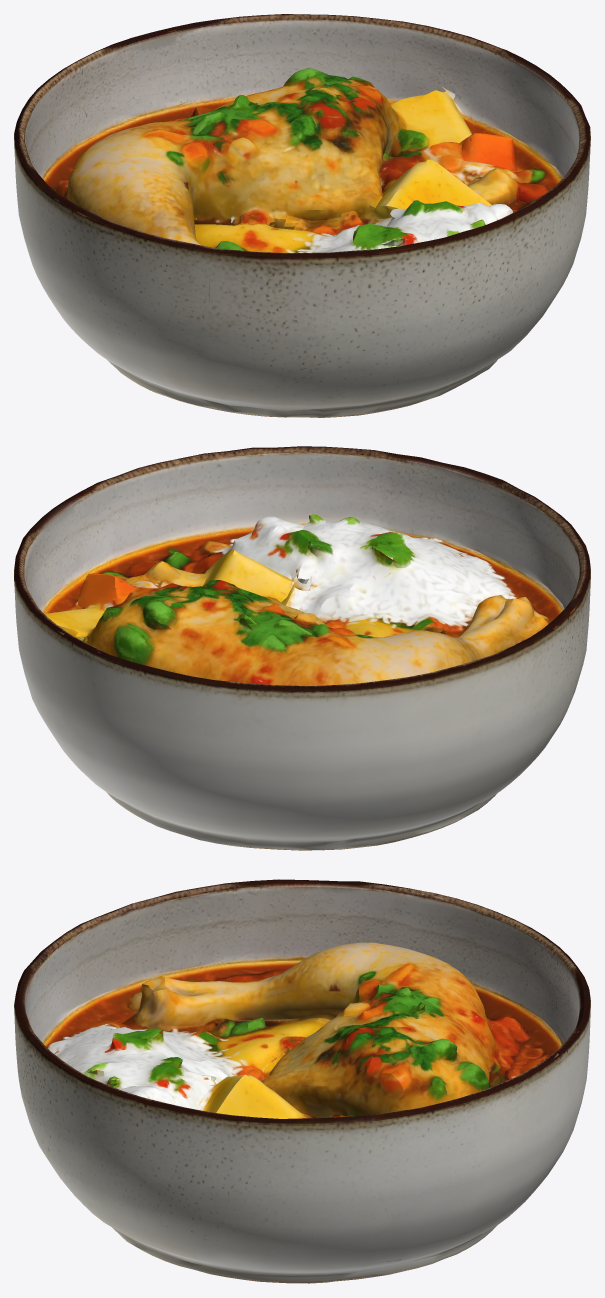
The model's file is ChickenStew.fbx.
The picture shows the model from 3 angles, top to bottom: view 1: azimuth 30°, elevation 25°; view 2: azimuth 150°, elevation 25°; view 3: azimuth 270°, elevation 25°; orthographic projection.
Parts seen in each view (by area): view 1: mesh_0; view 2: mesh_0; view 3: mesh_0.
Boxes of the visible parts, x1=… form: mesh_0: x1=14, y1=14, x2=590, y2=417; mesh_0: x1=14, y1=446, x2=590, y2=850; mesh_0: x1=14, y1=879, x2=590, y2=1283.
Size of the model in its own units: 191 by 191 by 76.8.
Materials: 1 (1 with a texture image).
